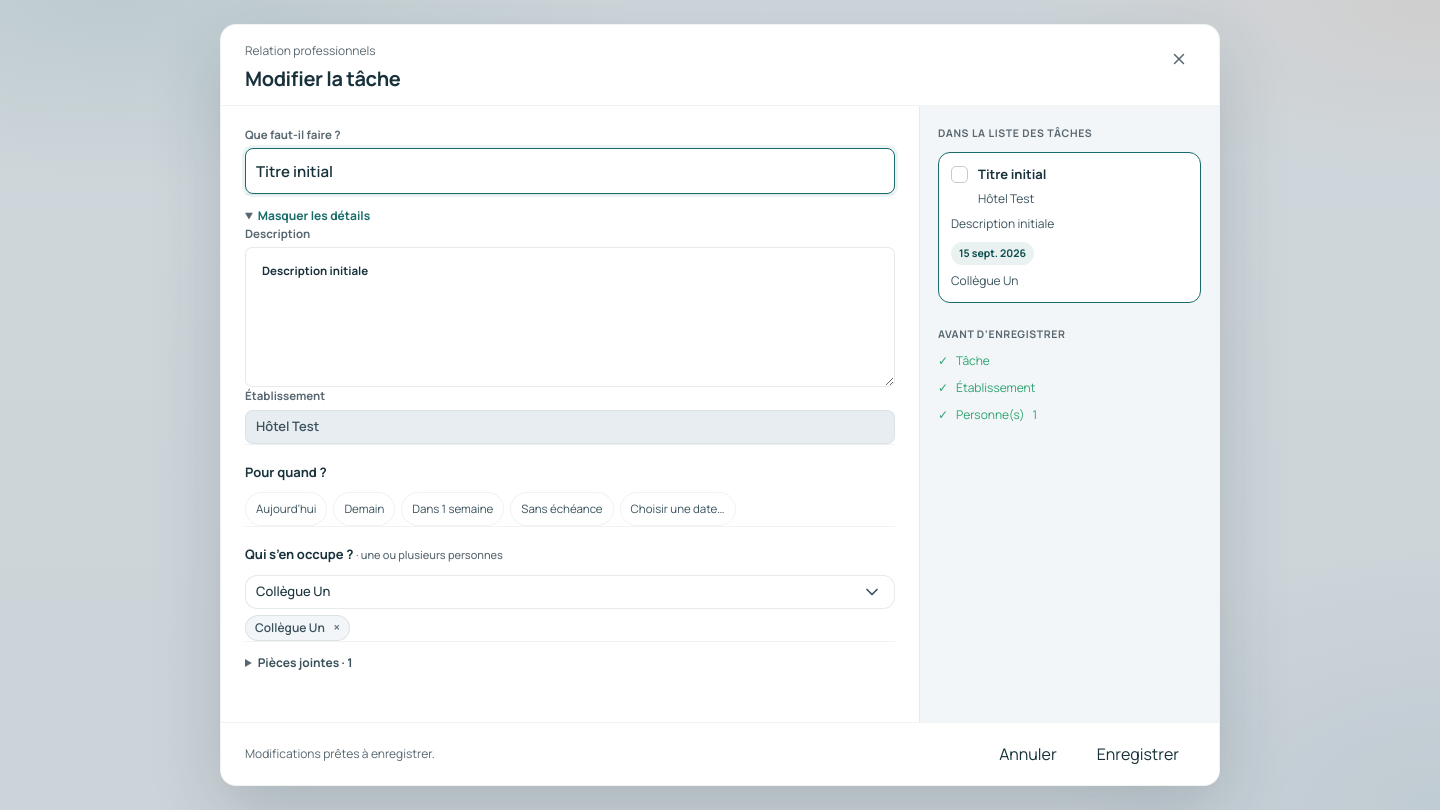
Test: CrmTaskModal — pièces jointes › Escape ferme seulement la confirmation, conserve le brouillon et restaure le focus
This screenshot has width=1440, height=810.
In the field named "Titre de la tâche": (570, 171) [245,148,895,194], type " modifié"
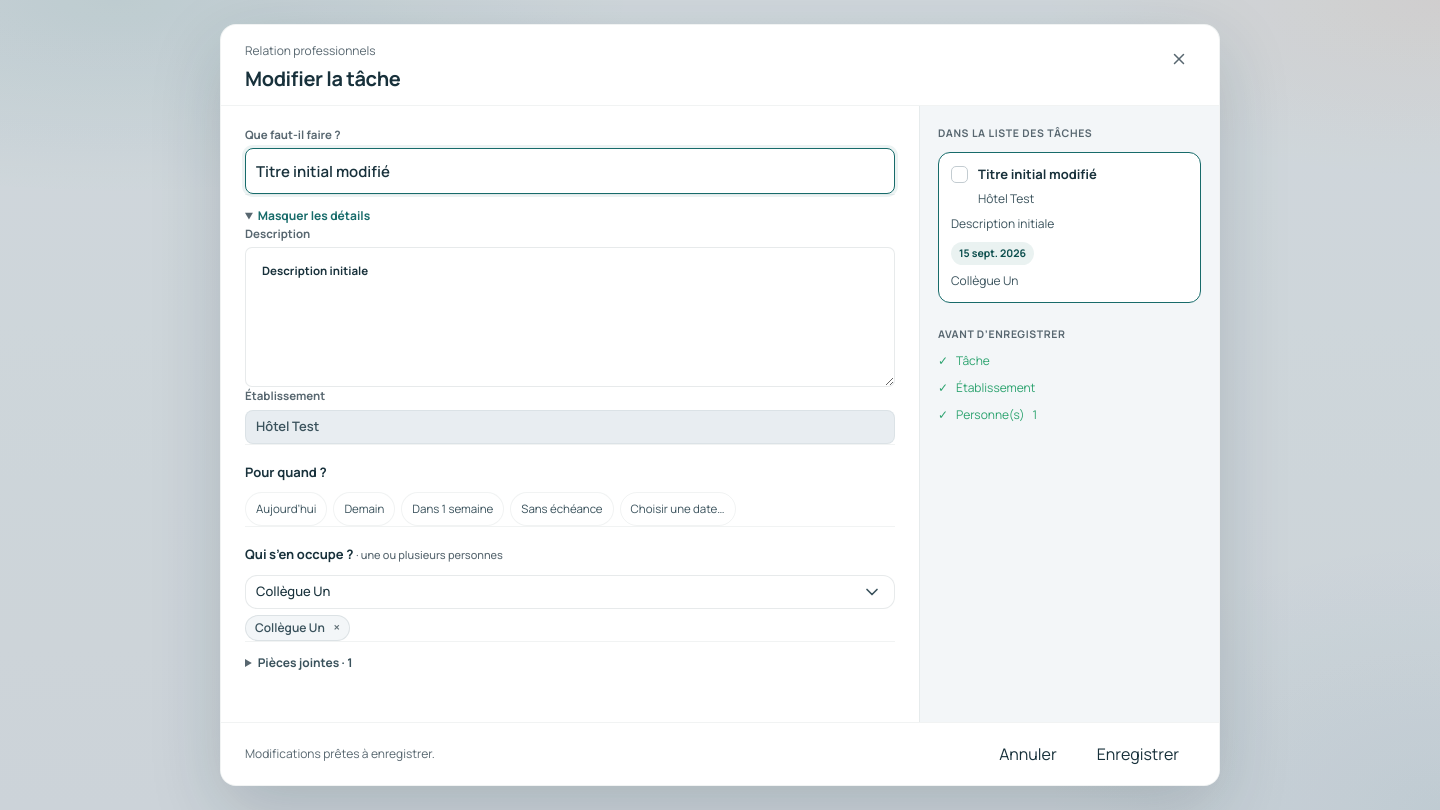
Click the heading "Pièces jointes · 1": (299, 662) [245,654,352,672]
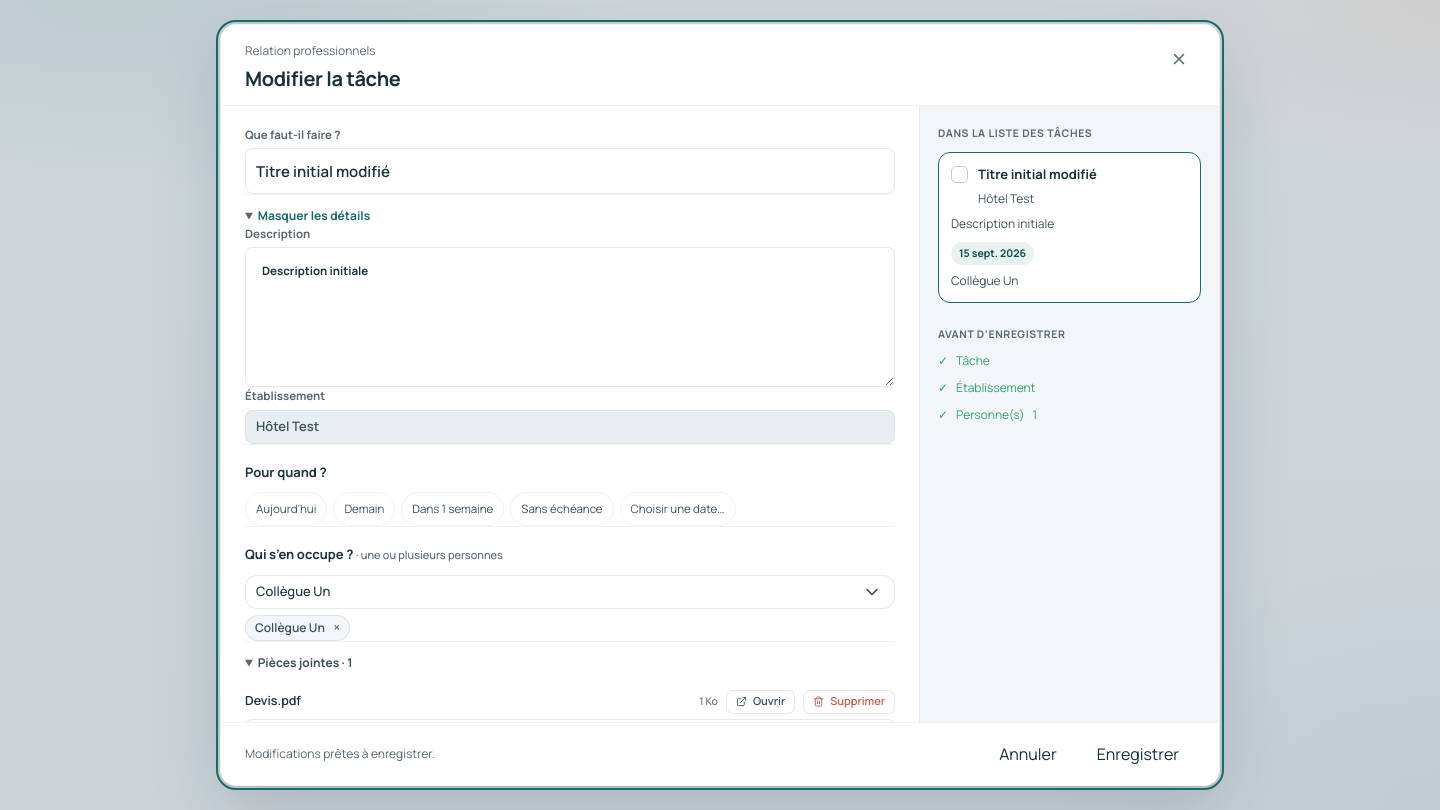
Click the button with aria-label "Supprimer « Devis.pdf »": (849, 702) [803,690,895,714]
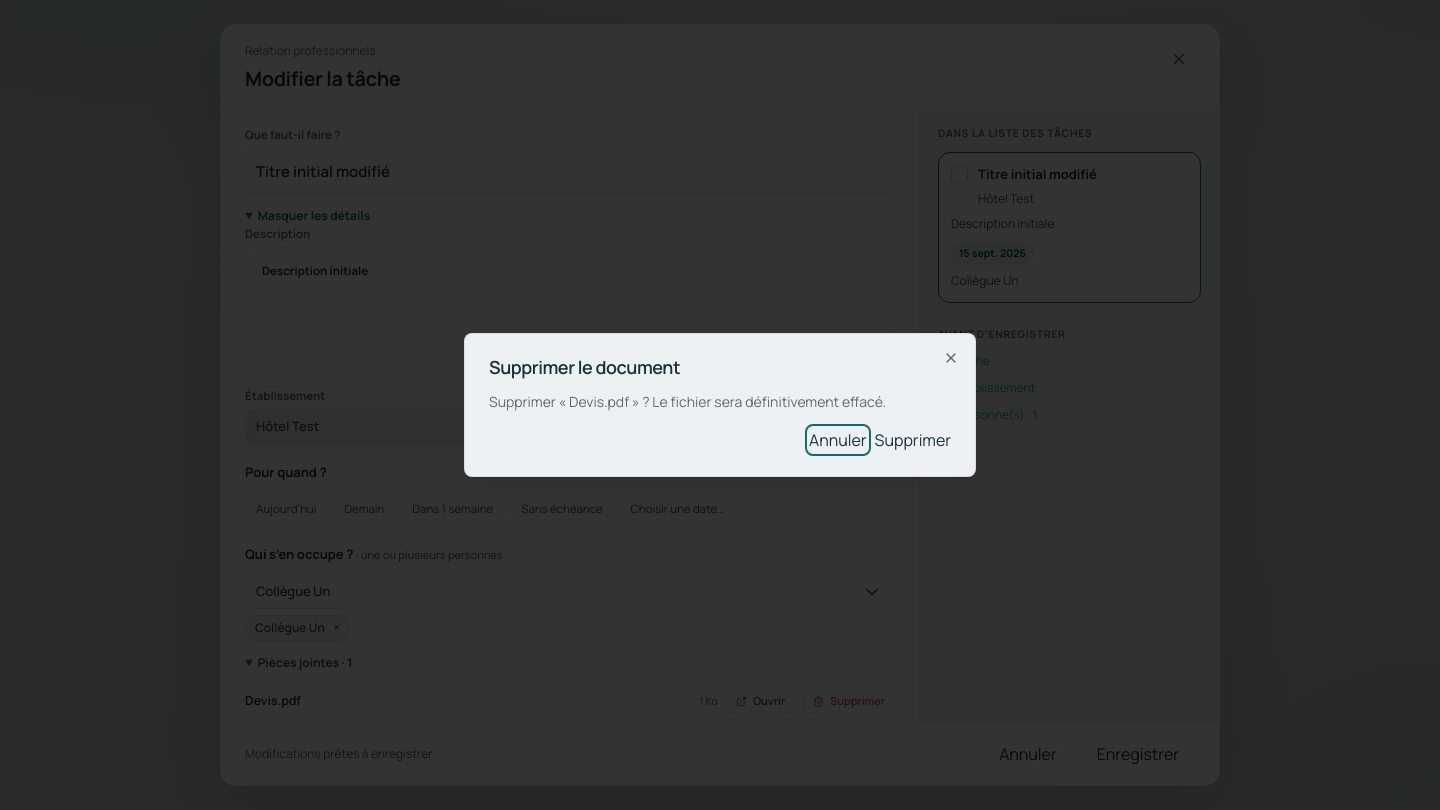
Press Escape
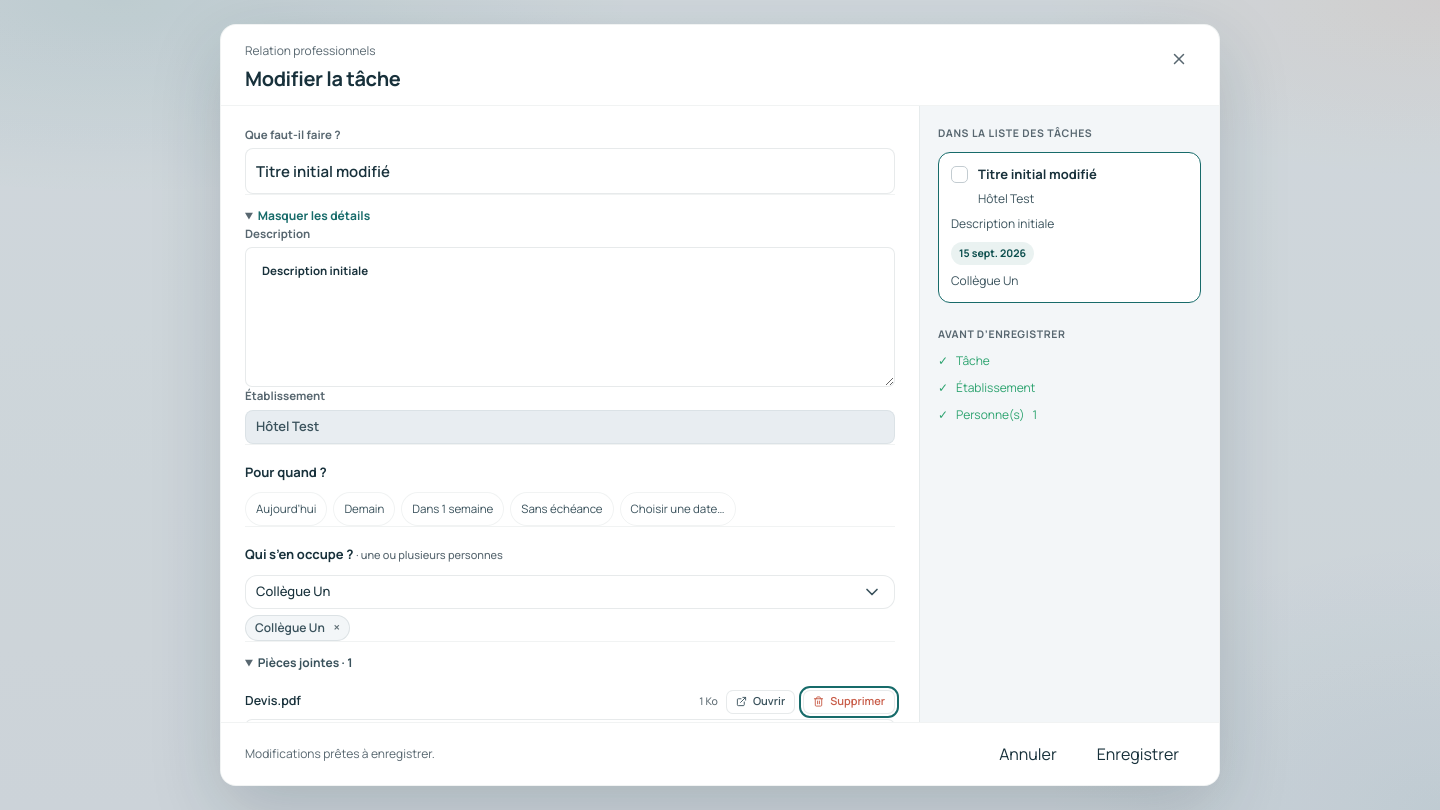
Now the field named "Titre de la tâche" holds "Titre initial modifié", box [245,148,895,194]
Now the heading "Supprimer le document" is gone
